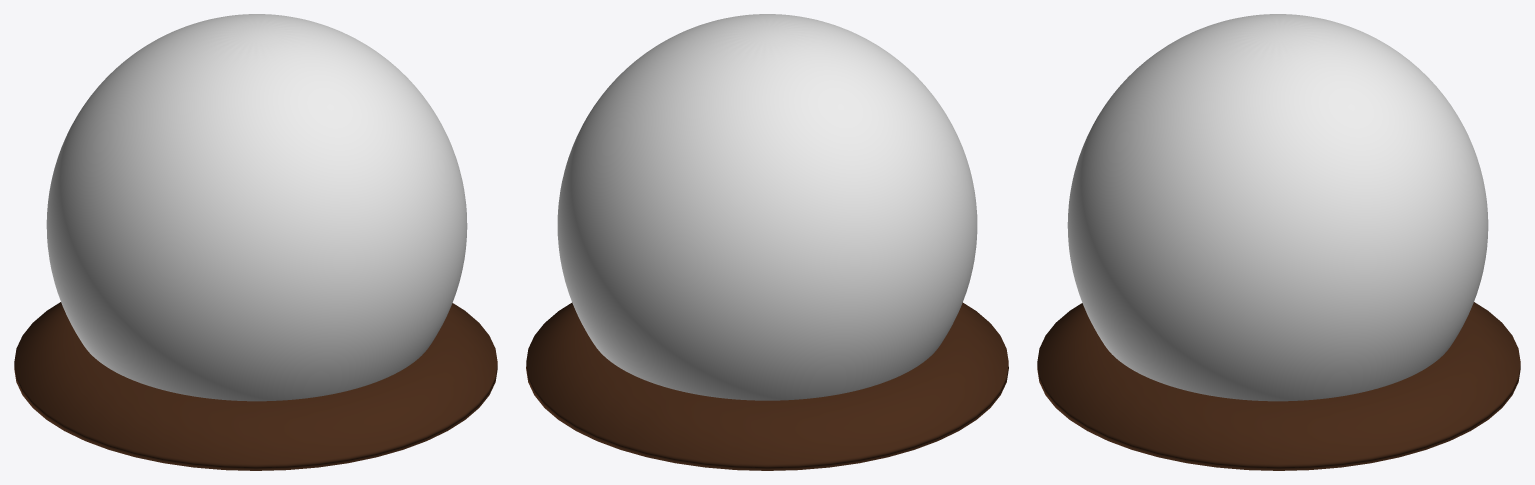
The picture shows the model from 3 angles, left to right: view 1: azimuth 30°, elevation 25°; view 2: azimuth 150°, elevation 25°; view 3: azimuth 270°, elevation 25°; orthographic projection.
Visible parts, largest first — view 1: sphere, stand; view 2: sphere, stand; view 3: sphere, stand.
Part boxes in pixels (x1,y1,x2,y2): sphere: (46,14,467,401); stand: (14,302,497,470); sphere: (557,14,977,400); stand: (526,302,1008,470); sphere: (1067,14,1488,401); stand: (1037,302,1520,470).
Bounding box in the file's own units: 914 × 702 × 914.
